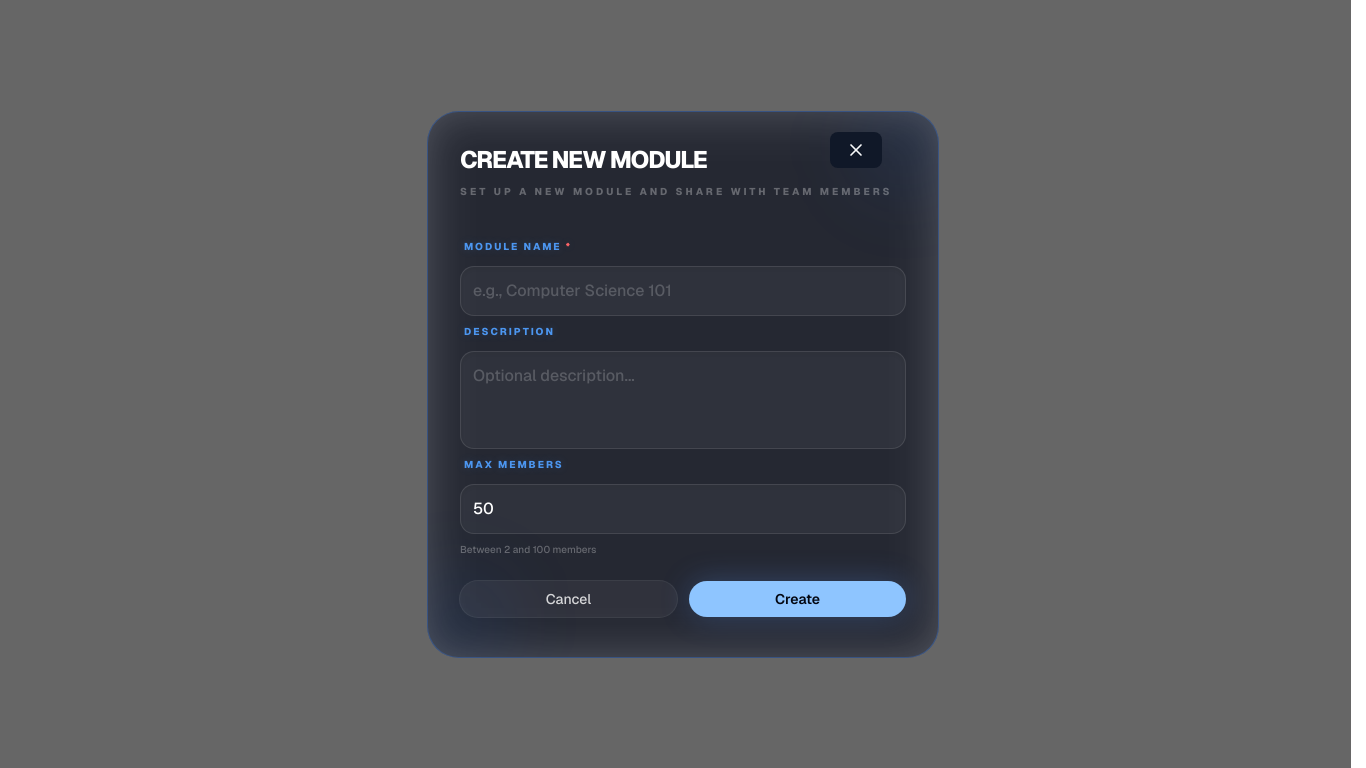
CreateModule › shows an error when module creation fails
The image size is (1366, 768).
Type "CS101" into the field with placeholder "e.g., Computer Science 101". click: (683, 290)
box: [460,266,906,316]
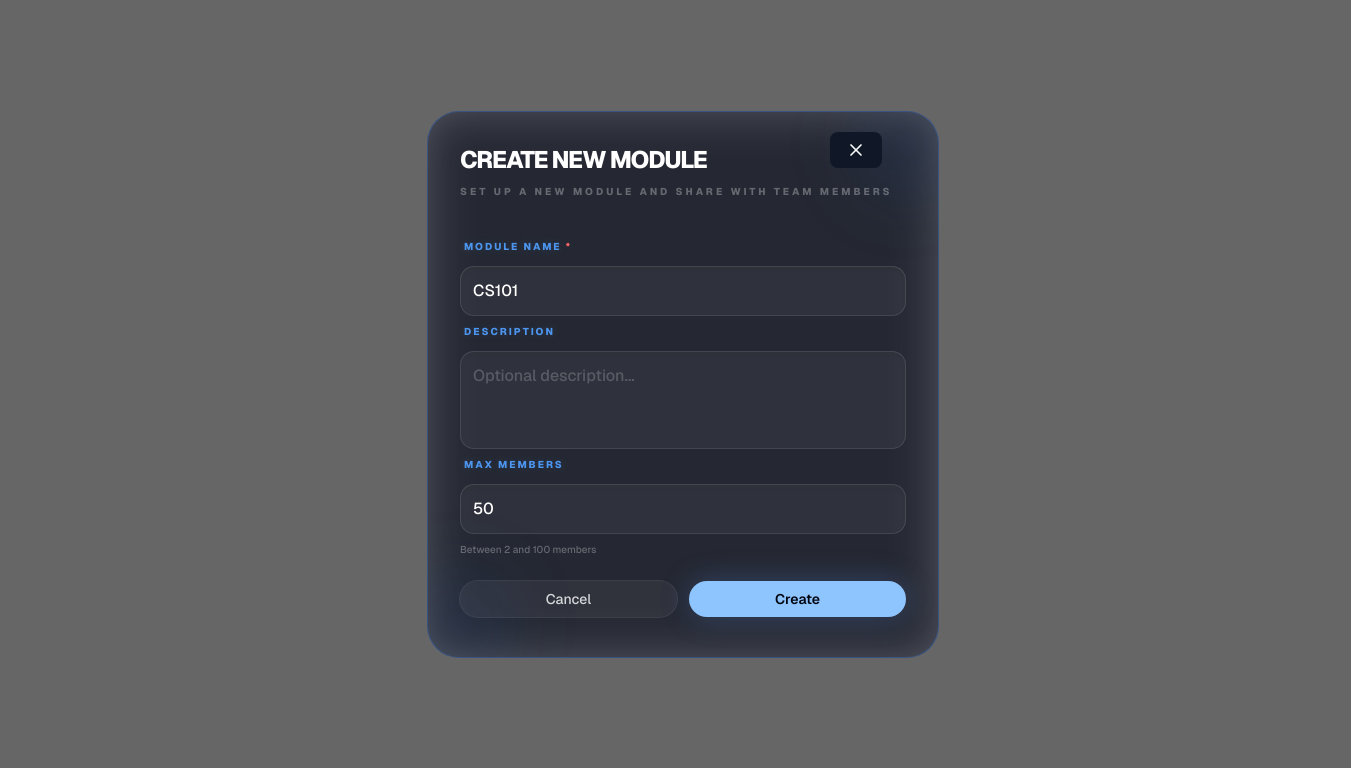
Click the button "Create". click: (798, 598)
box: [689,580,906,616]
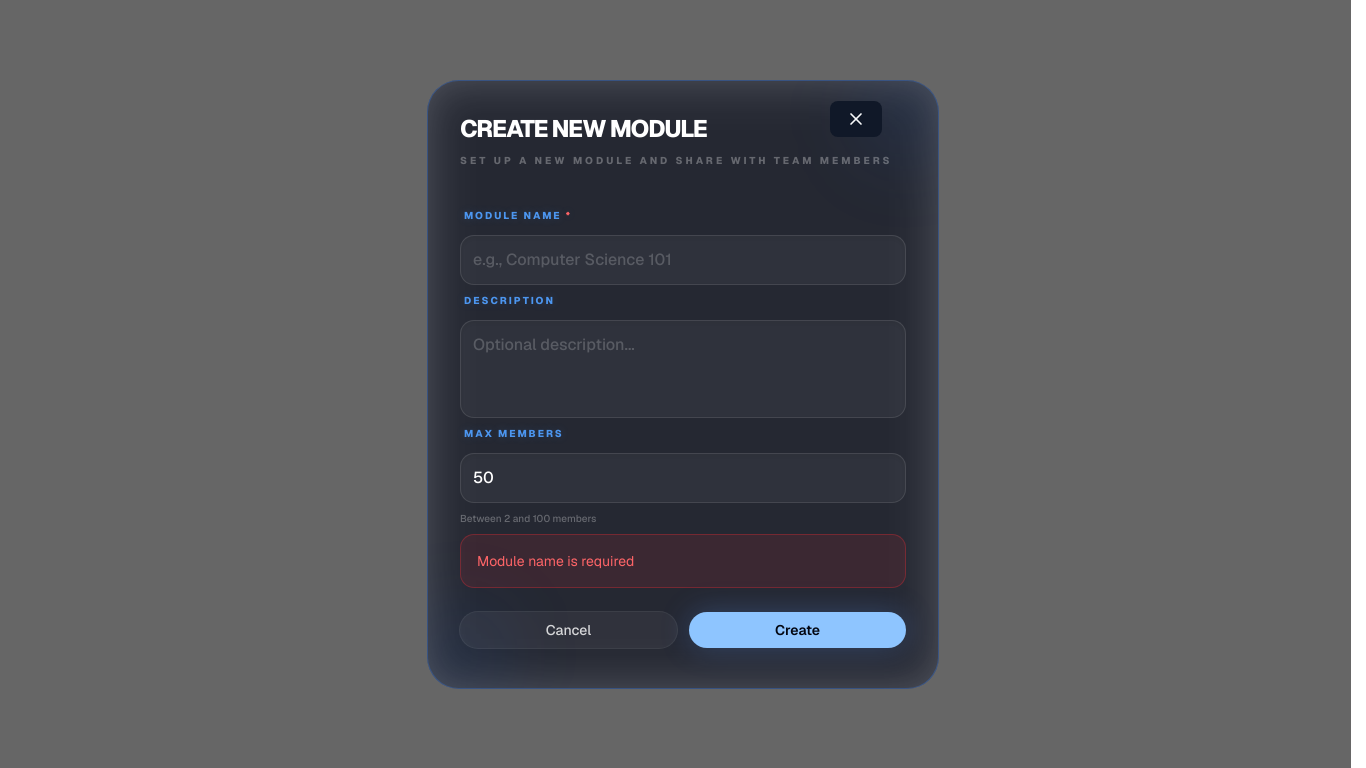
Now the text "Module name is required" is shown, box [460,534,906,588]
